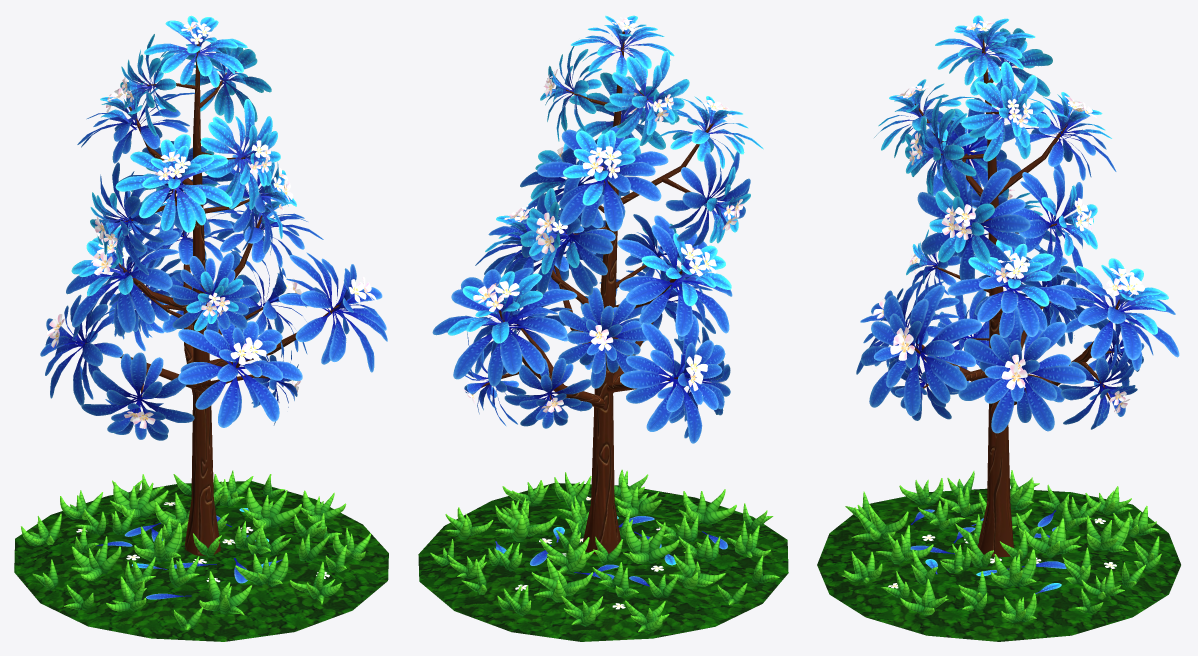
File: NAT_TreePainted.glb
3 renders of one model, left to right at view 1: azimuth 30°, elevation 25°; view 2: azimuth 150°, elevation 25°; view 3: azimuth 270°, elevation 25°, orthographic. The views are drawn at different scales.
Visible parts, largest first — view 1: Object_3, Object_2; view 2: Object_3, Object_2; view 3: Object_3, Object_2.
Part boxes in pixels (x1=…): Object_3: x1=21, y1=15, x2=387, y2=630; Object_2: x1=14, y1=481, x2=388, y2=641; Object_3: x1=430, y1=15, x2=779, y2=632; Object_2: x1=418, y1=483, x2=788, y2=641; Object_3: x1=841, y1=15, x2=1179, y2=622; Object_2: x1=817, y1=488, x2=1180, y2=641.
Bounding box in the file's own units: 3.06 × 5 × 3.08.
Materials: 2 (2 with a texture image).
